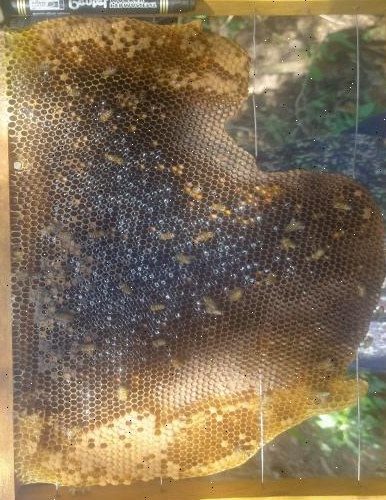cria: (39, 384, 325, 487), (38, 15, 250, 100), (351, 187, 382, 236)
